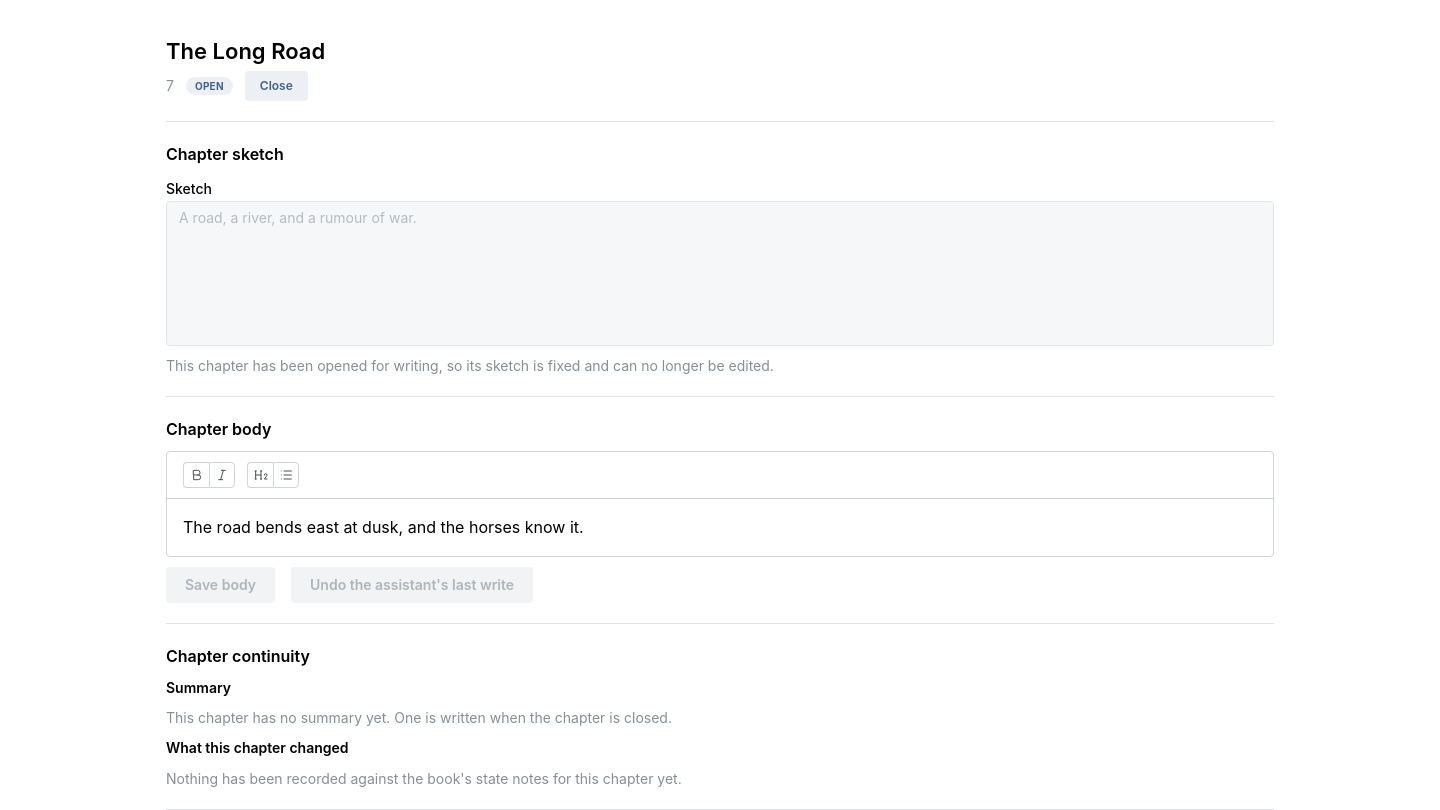
Test case: the chapter page's close surface (DoD-9) › DoD-9: the Close control asks for confirmation first — the click alone posts nothing
Click the button "Close" at (276, 86), box [245,71,308,101]
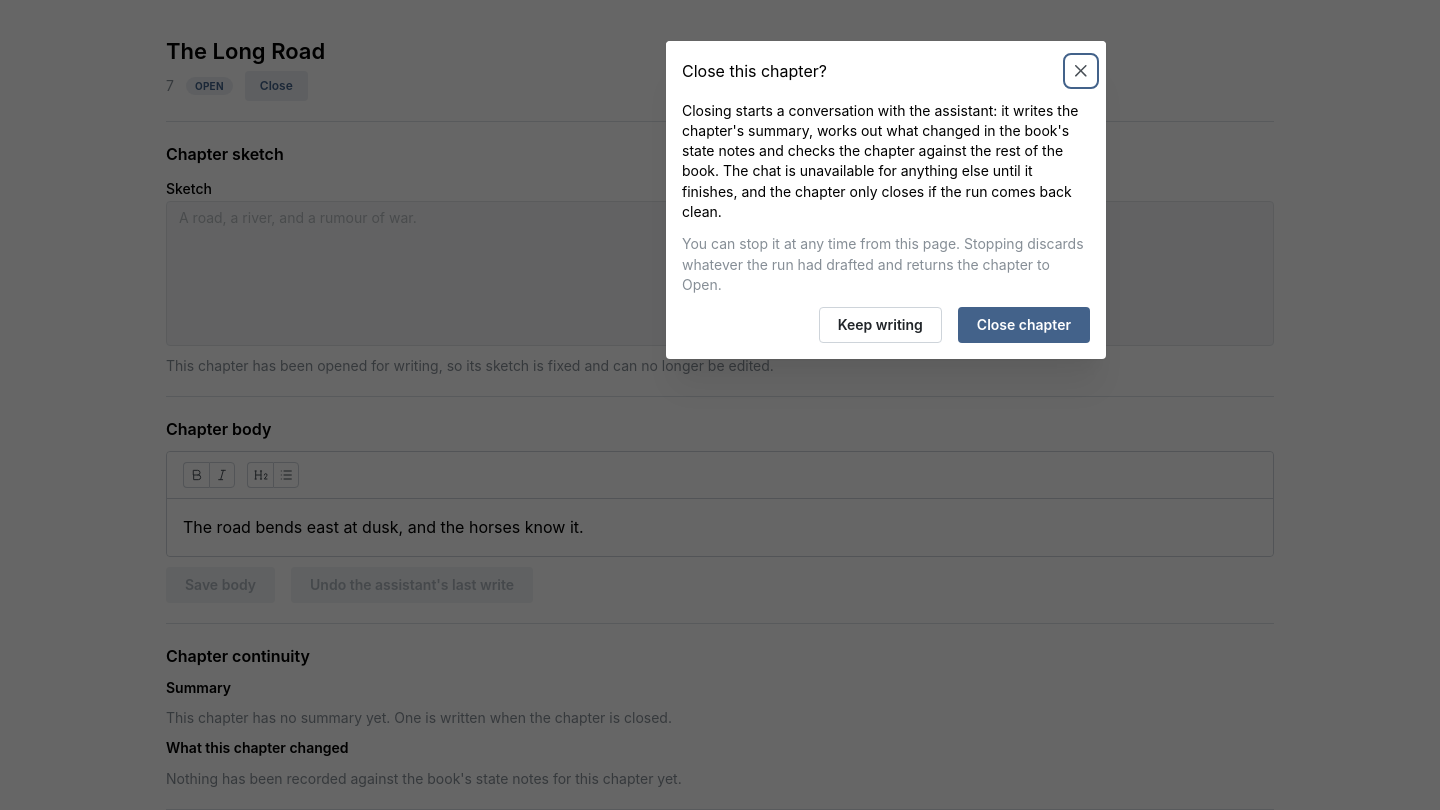
expect the dialog is shown: met, box [666,40,1106,359]
